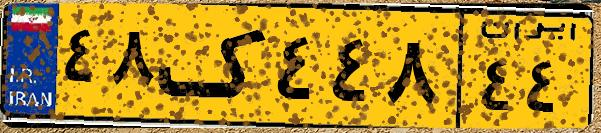4: (270, 28, 330, 110), (330, 28, 385, 110), (57, 26, 110, 100), (475, 38, 525, 113), (525, 38, 570, 115)
8: (385, 28, 445, 110), (110, 28, 158, 98)
ک: (158, 12, 270, 120)
